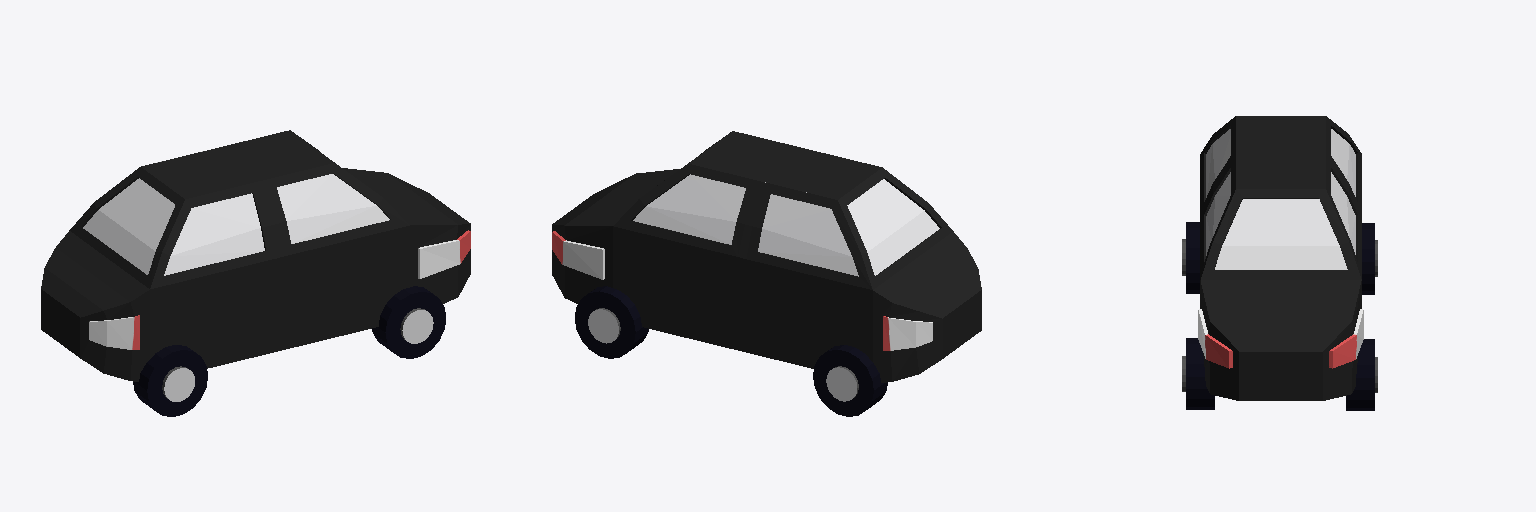
3 renders of one model, left to right at view 1: azimuth 30°, elevation 25°; view 2: azimuth 150°, elevation 25°; view 3: azimuth 270°, elevation 25°, orthographic.
Parts seen in each view (by area): view 1: Object150; view 2: Object150; view 3: Object150.
Boxes of the visible parts, box(x1,y1,x2,y2) form: Object150: box(41, 130, 470, 416); Object150: box(552, 131, 981, 416); Object150: box(1182, 116, 1377, 410).
Bounding box in the file's own units: 363 × 170 × 158.
Materials: 1 (1 with a texture image).